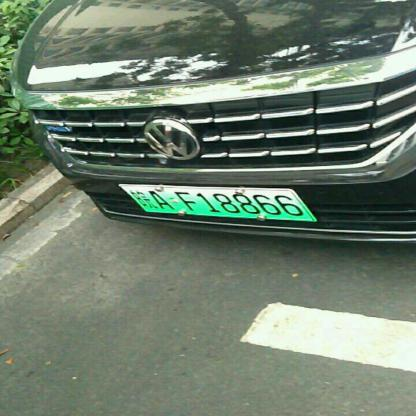lp: (116, 185, 317, 219)
